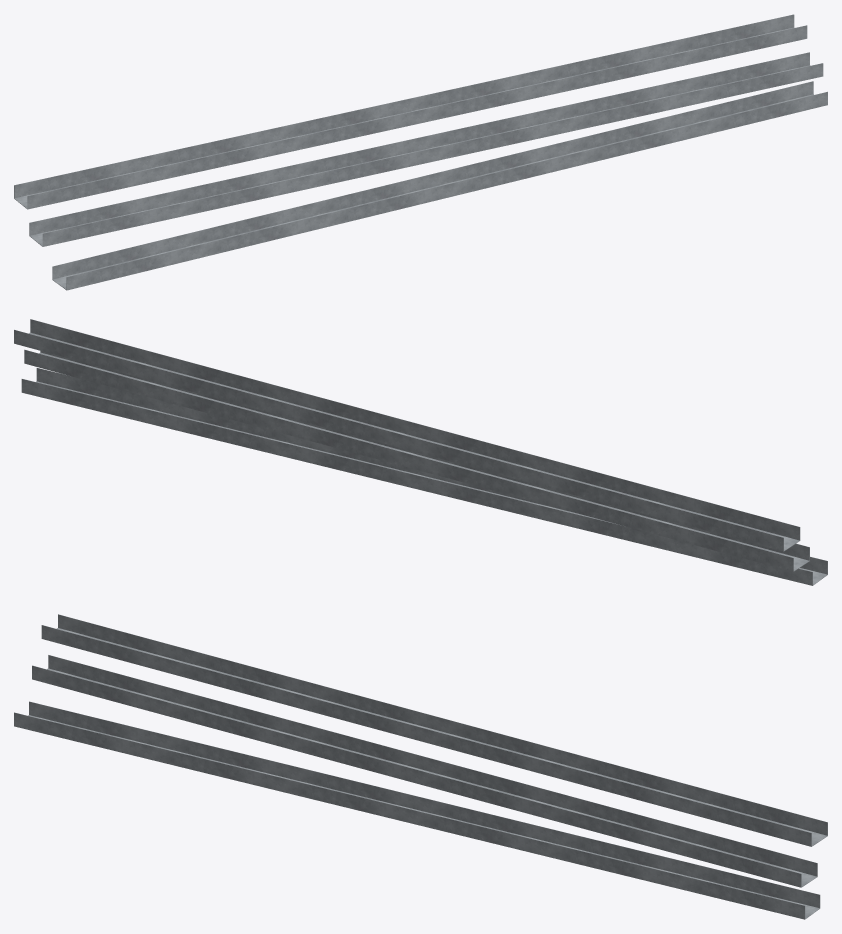
The model's file is ELE-ELD-005_anim.glb.
3 renders of one model, top to bottom at view 1: azimuth 30°, elevation 25°; view 2: azimuth 150°, elevation 25°; view 3: azimuth 330°, elevation 25°, orthographic. The views are drawn at different scales.
Parts seen in each view (by area): view 1: ELE-ELD-005_anim1, ELE-ELD-005_anim2, ELE-ELD-005_anim0; view 2: ELE-ELD-005_anim2, ELE-ELD-005_anim0, ELE-ELD-005_anim1; view 3: ELE-ELD-005_anim0, ELE-ELD-005_anim2, ELE-ELD-005_anim1.
Part boxes in pixels (x1=…): ELE-ELD-005_anim1: x1=29, y1=52, x2=823, y2=246; ELE-ELD-005_anim2: x1=14, y1=14, x2=807, y2=209; ELE-ELD-005_anim0: x1=52, y1=81, x2=827, y2=290; ELE-ELD-005_anim2: x1=14, y1=319, x2=800, y2=551; ELE-ELD-005_anim0: x1=21, y1=368, x2=827, y2=585; ELE-ELD-005_anim1: x1=24, y1=349, x2=809, y2=571; ELE-ELD-005_anim0: x1=14, y1=701, x2=820, y2=919; ELE-ELD-005_anim2: x1=41, y1=614, x2=827, y2=846; ELE-ELD-005_anim1: x1=32, y1=655, x2=817, y2=887.
Size of the model in its own units: 3.03 by 0.27 by 0.3275.
Materials: 2 (1 with a texture image).
